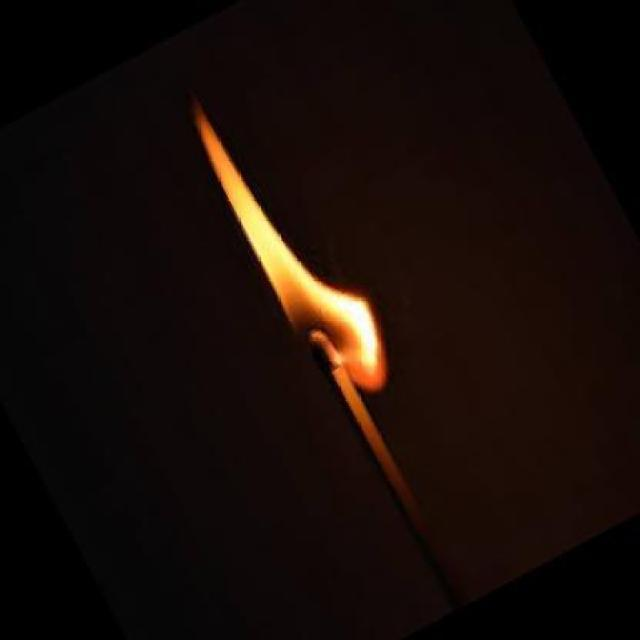Fire: (188, 99, 397, 392)
